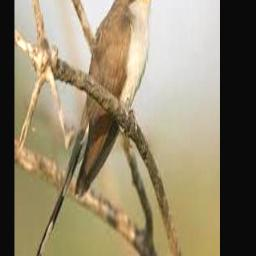Cuckoo: (35, 0, 161, 256)
